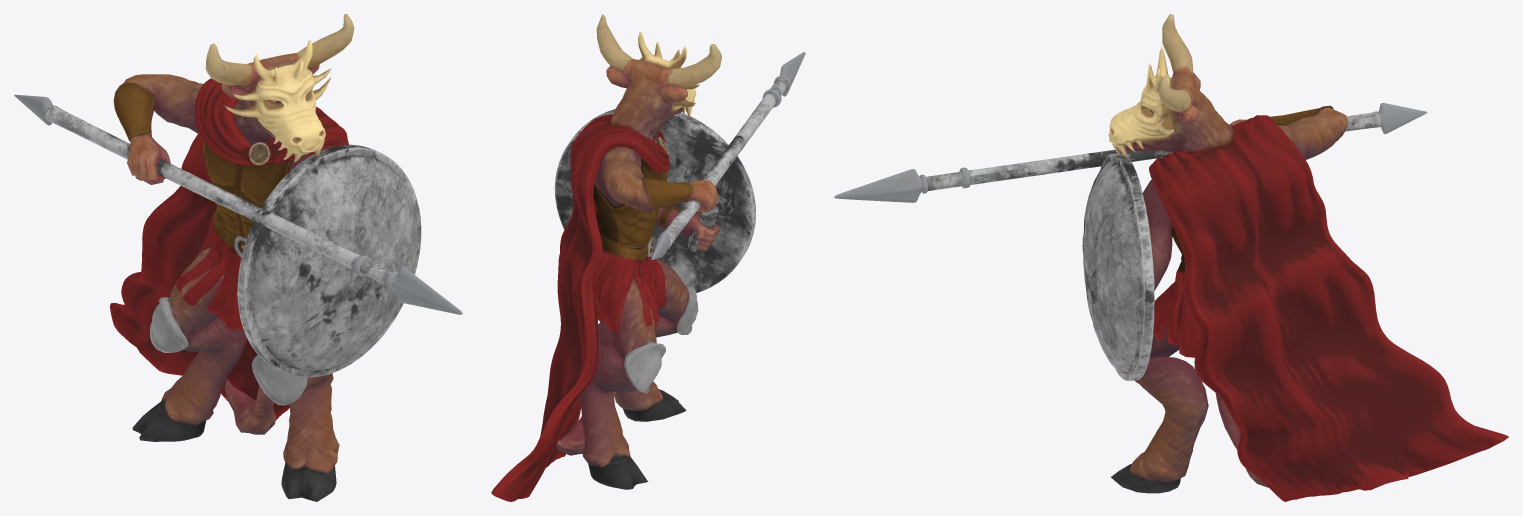
File: MZ4250 - Returned Sentry Minotaur.glb
3 views of the same model, side by side, from view 1: azimuth 30°, elevation 25°; view 2: azimuth 150°, elevation 25°; view 3: azimuth 270°, elevation 25° (orthographic). The views are drawn at different scales.
Parts seen in each view (by area): view 1: Body.001; view 2: Body.001; view 3: Body.001.
Boxes of the visible parts, x1,y1,x2,y2 form: Body.001: (14, 14, 462, 501); Body.001: (491, 14, 805, 501); Body.001: (834, 14, 1508, 501).
Size of the model in its own units: 2.95 by 5.02 by 7.04.
1 material, 1 textured.
